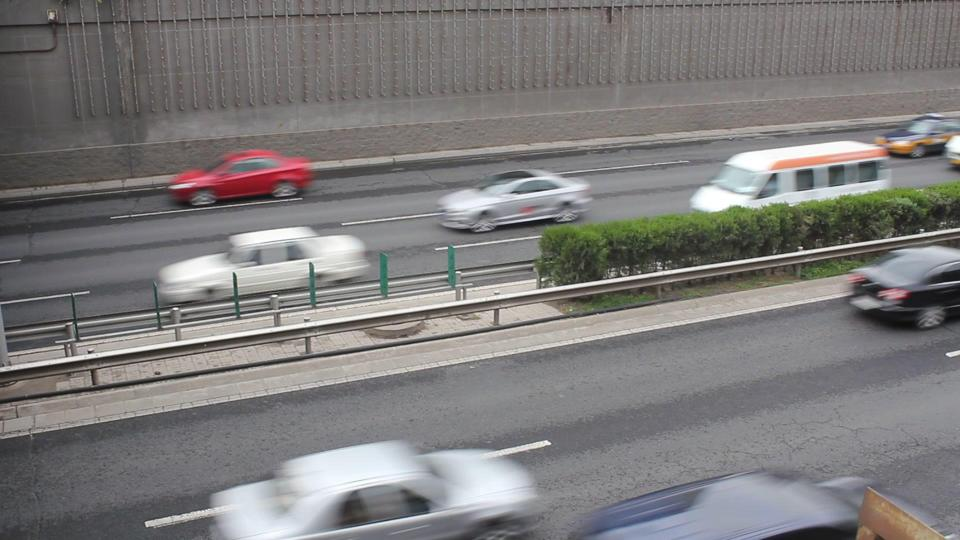bus: (688, 140, 891, 214)
car: (206, 440, 548, 540), (508, 469, 920, 540), (155, 226, 373, 305), (435, 169, 593, 234), (845, 245, 960, 330), (167, 149, 317, 208), (874, 112, 960, 159), (945, 135, 960, 168)
